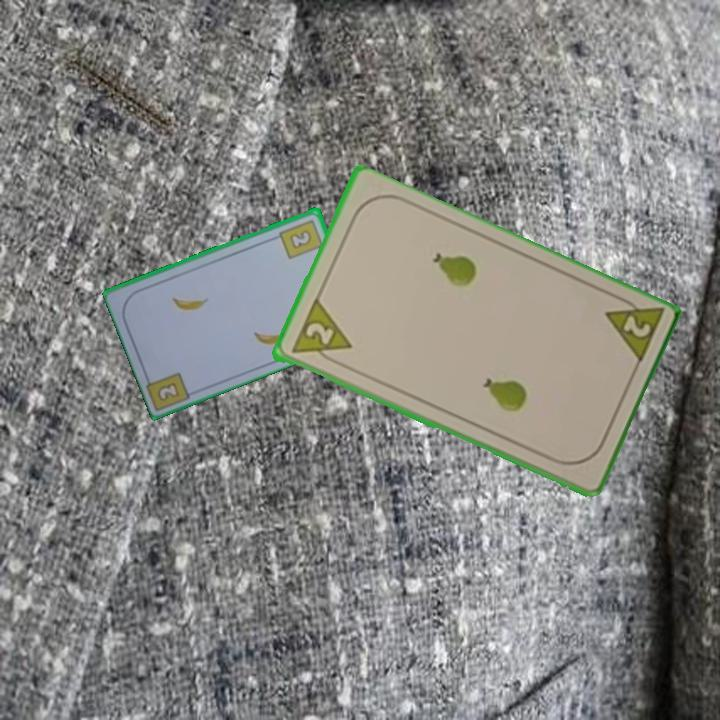2b: (276, 215, 326, 262), (154, 378, 182, 404)
2p: (600, 290, 666, 369), (287, 297, 354, 370)
